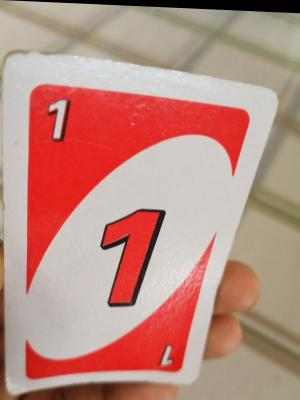num_1: (154, 330, 186, 376)
